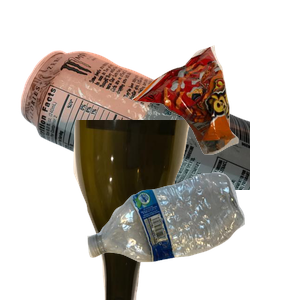glass: (71, 120, 254, 300)
metal: (18, 48, 258, 228)
plastic: (85, 170, 300, 300)
trash: (130, 43, 300, 190)
